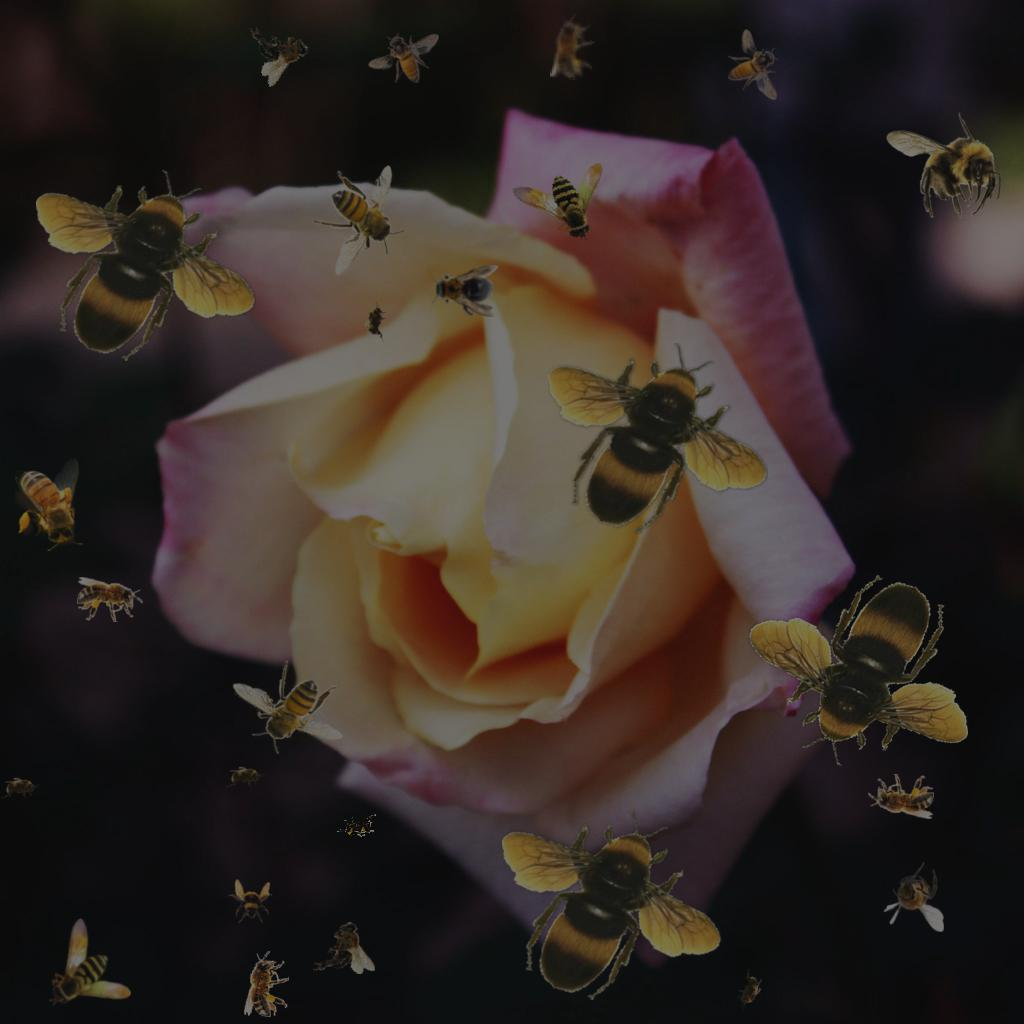Bee: (748, 575, 968, 766), (502, 809, 722, 1000), (548, 343, 768, 534), (36, 170, 256, 361), (886, 112, 1001, 219), (502, 140, 612, 246), (312, 165, 406, 276), (232, 660, 343, 754), (49, 918, 131, 1006), (15, 458, 83, 551), (246, 12, 317, 88), (883, 862, 944, 932), (368, 33, 439, 83), (728, 29, 778, 100), (430, 265, 498, 317), (313, 921, 375, 974), (550, 14, 595, 80), (244, 951, 289, 1017), (77, 577, 143, 622), (868, 774, 934, 819), (228, 879, 272, 923), (730, 968, 768, 1014), (361, 299, 391, 343), (335, 813, 379, 841), (1, 777, 41, 799), (226, 766, 266, 788)
